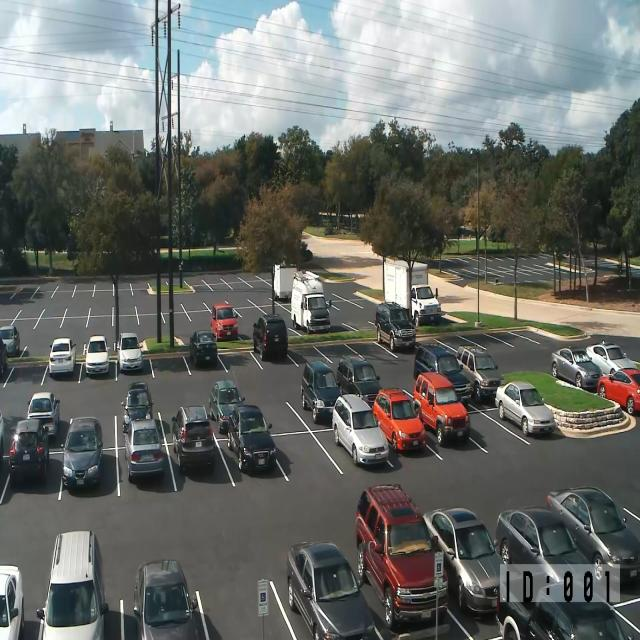car: (355, 483, 449, 630), (495, 506, 606, 605), (546, 485, 640, 584), (286, 540, 376, 640), (422, 507, 503, 617), (496, 578, 640, 639), (36, 530, 109, 640), (133, 558, 208, 640), (413, 372, 470, 446), (332, 393, 389, 466), (528, 600, 628, 639), (413, 343, 472, 404), (227, 404, 276, 474), (494, 381, 556, 436), (373, 388, 426, 452), (60, 416, 103, 489), (171, 405, 215, 472), (456, 344, 504, 402), (123, 417, 165, 481), (300, 360, 342, 424), (8, 418, 49, 483), (337, 354, 382, 408), (551, 346, 603, 392), (375, 300, 416, 352), (596, 368, 640, 416), (208, 379, 245, 433), (586, 340, 637, 376), (0, 564, 24, 640), (121, 381, 154, 434), (252, 313, 288, 361), (26, 391, 60, 439), (410, 283, 441, 327), (610, 596, 640, 640), (83, 335, 110, 376), (116, 332, 143, 373), (210, 302, 238, 341), (189, 329, 217, 367), (49, 337, 76, 376), (0, 410, 16, 466), (0, 324, 20, 356), (0, 409, 5, 466), (0, 337, 7, 377), (300, 239, 308, 252)
